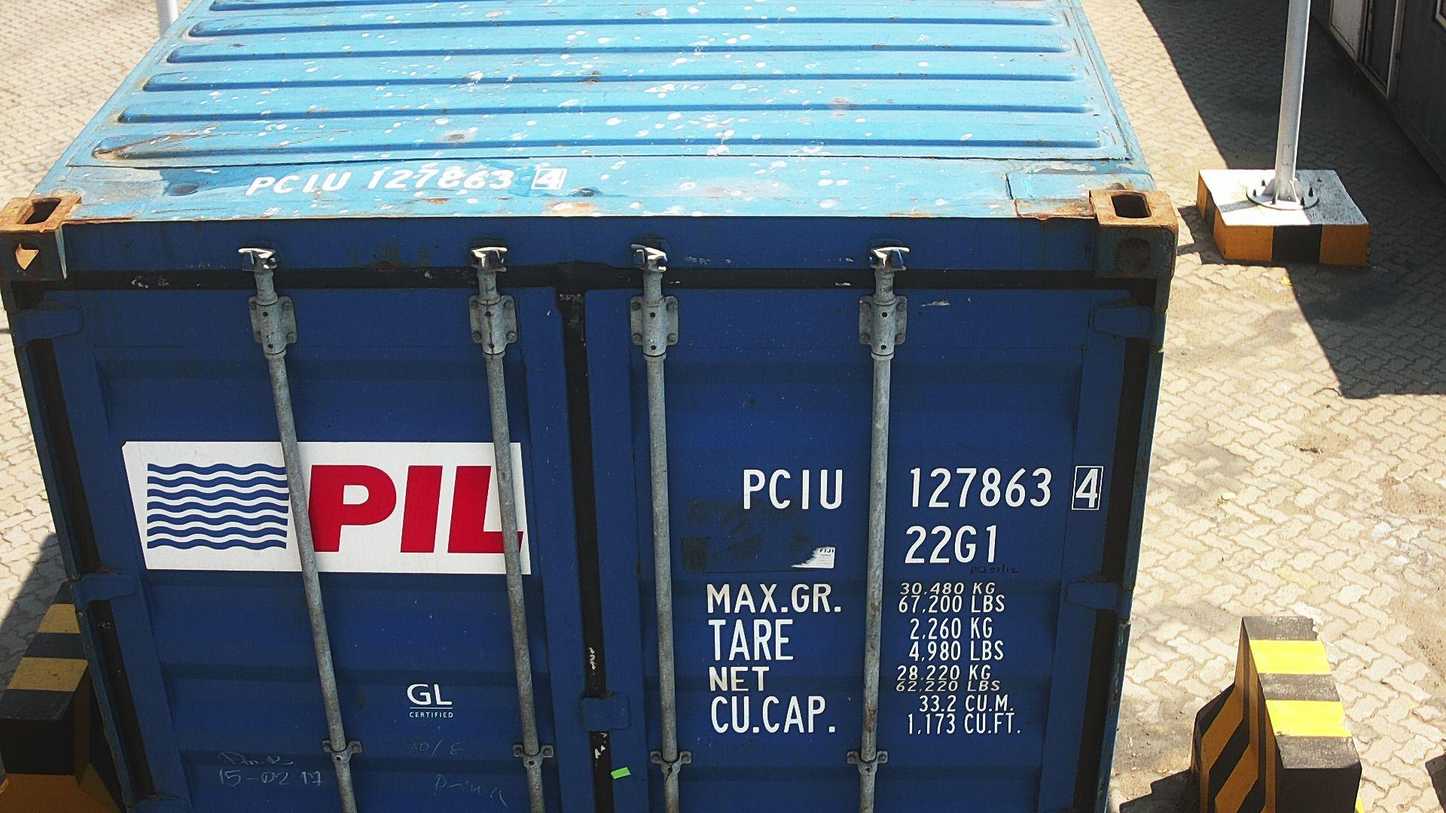container-numbers: (733, 462, 1112, 516), (240, 161, 575, 196), (901, 522, 1002, 567)
